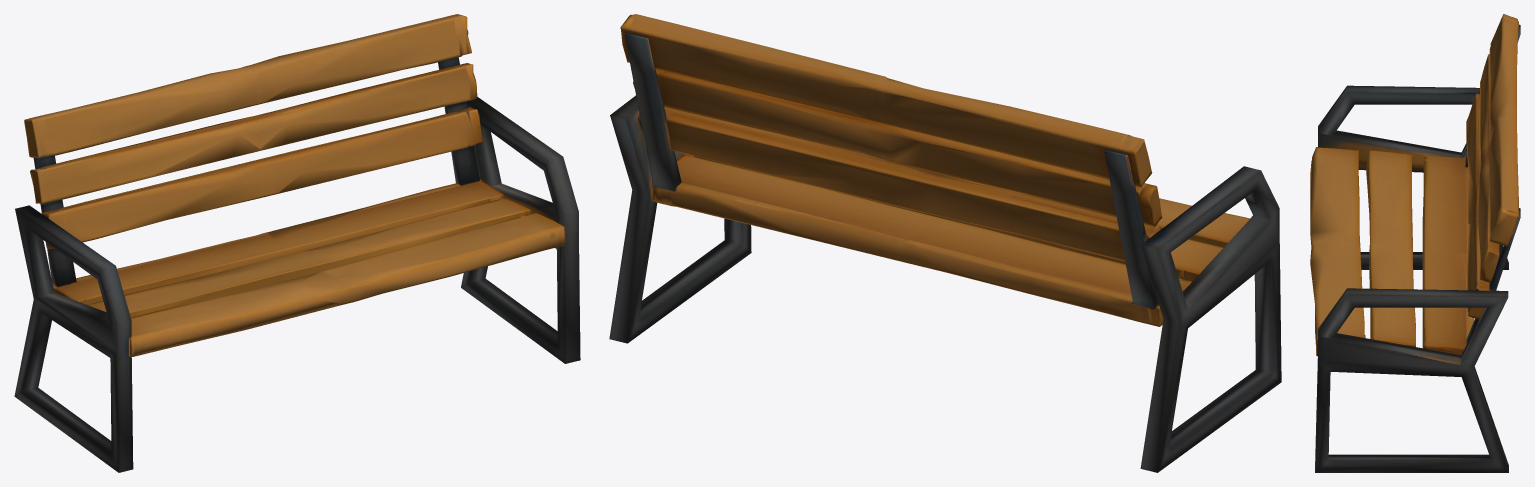
3 views of the same model, side by side, from view 1: azimuth 30°, elevation 25°; view 2: azimuth 150°, elevation 25°; view 3: azimuth 270°, elevation 25° (orthographic). The views are drawn at different scales.
Parts seen in each view (by area): view 1: tripo_node_73c2d8c4-b1d5-4f2d-b903-d90fa46b922b; view 2: tripo_node_73c2d8c4-b1d5-4f2d-b903-d90fa46b922b; view 3: tripo_node_73c2d8c4-b1d5-4f2d-b903-d90fa46b922b.
Part boxes in pixels (x1,y1,x2,y2): tripo_node_73c2d8c4-b1d5-4f2d-b903-d90fa46b922b: (14,14,580,472); tripo_node_73c2d8c4-b1d5-4f2d-b903-d90fa46b922b: (609,14,1281,472); tripo_node_73c2d8c4-b1d5-4f2d-b903-d90fa46b922b: (1310,14,1520,472).
Bounding box in the file's own units: 0.998 × 0.5684 × 0.4238.
Materials: 1 (1 with a texture image).
